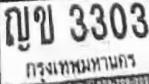0: (109, 1, 127, 40)
3: (68, 3, 88, 42), (129, 1, 149, 39), (89, 2, 108, 41)
A02: (33, 3, 55, 45)
A13: (4, 5, 31, 52)
BKK: (22, 48, 140, 84)
